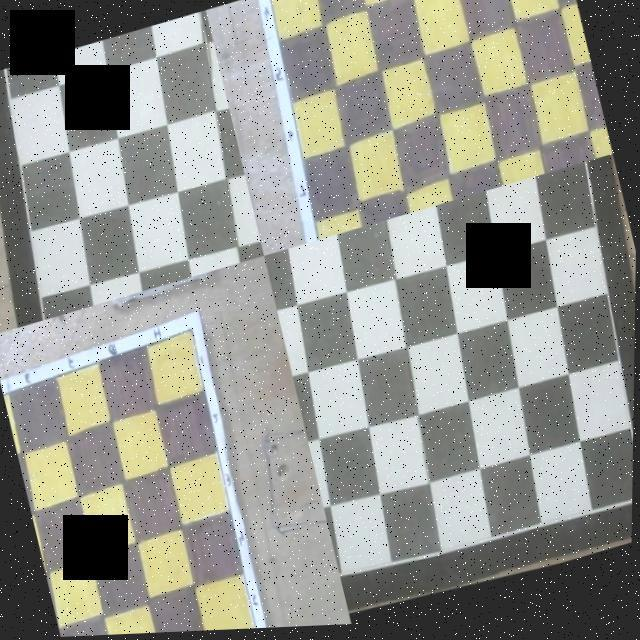chess-table-corners: (190, 329, 197, 337), (4, 66, 12, 72), (600, 162, 608, 166)
